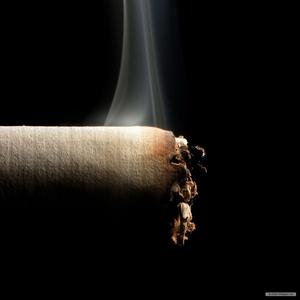cigarette: (1, 123, 213, 203)
